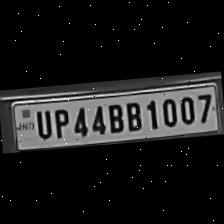0: (158, 93, 180, 127), (176, 92, 196, 124)
1: (140, 96, 160, 129)
4: (68, 102, 89, 136), (86, 100, 106, 134)
7: (194, 90, 214, 122)
B: (122, 96, 145, 132), (104, 100, 125, 132)
P: (50, 104, 71, 138)
U: (32, 105, 53, 139)
